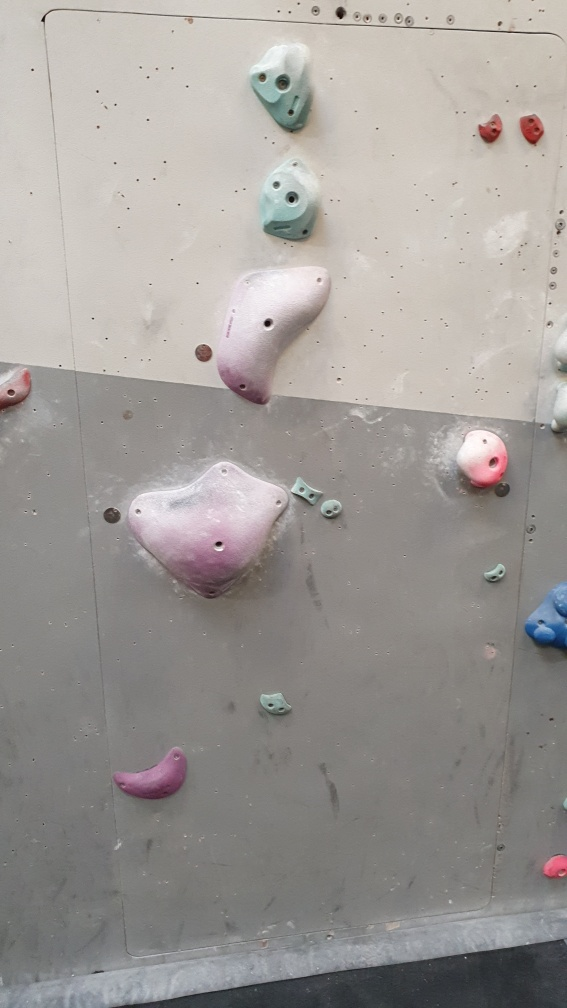Crimp: (517, 109, 547, 151), (476, 110, 504, 148)
Hand Start: (101, 505, 124, 525), (194, 343, 214, 364), (494, 479, 511, 499)
Jug: (245, 40, 321, 134), (257, 154, 322, 240), (456, 425, 510, 488)
Pinch: (287, 478, 323, 505)
Sloper: (520, 577, 567, 654)
